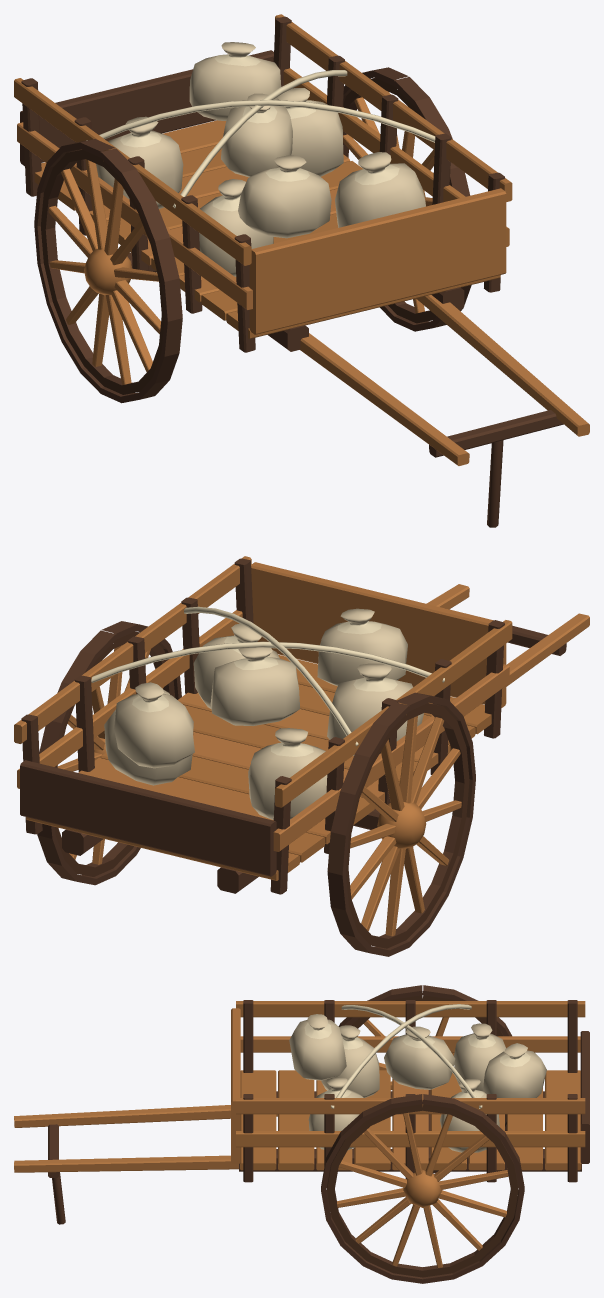
The model's file is prop_wagon_cart_a.glb.
The picture shows the model from 3 angles, top to bottom: view 1: azimuth 30°, elevation 25°; view 2: azimuth 150°, elevation 25°; view 3: azimuth 270°, elevation 25°; orthographic projection. The views are drawn at different scales.
Visible parts, largest first — view 1: prop_wagon_cart_a_mesh; view 2: prop_wagon_cart_a_mesh; view 3: prop_wagon_cart_a_mesh.
Boxes of the visible parts, x1,y1,x2,y2 form: prop_wagon_cart_a_mesh: [14, 14, 589, 527]; prop_wagon_cart_a_mesh: [14, 556, 589, 956]; prop_wagon_cart_a_mesh: [14, 985, 589, 1283].
Size of the model in its own units: 1.88 by 1.42 by 3.67.
